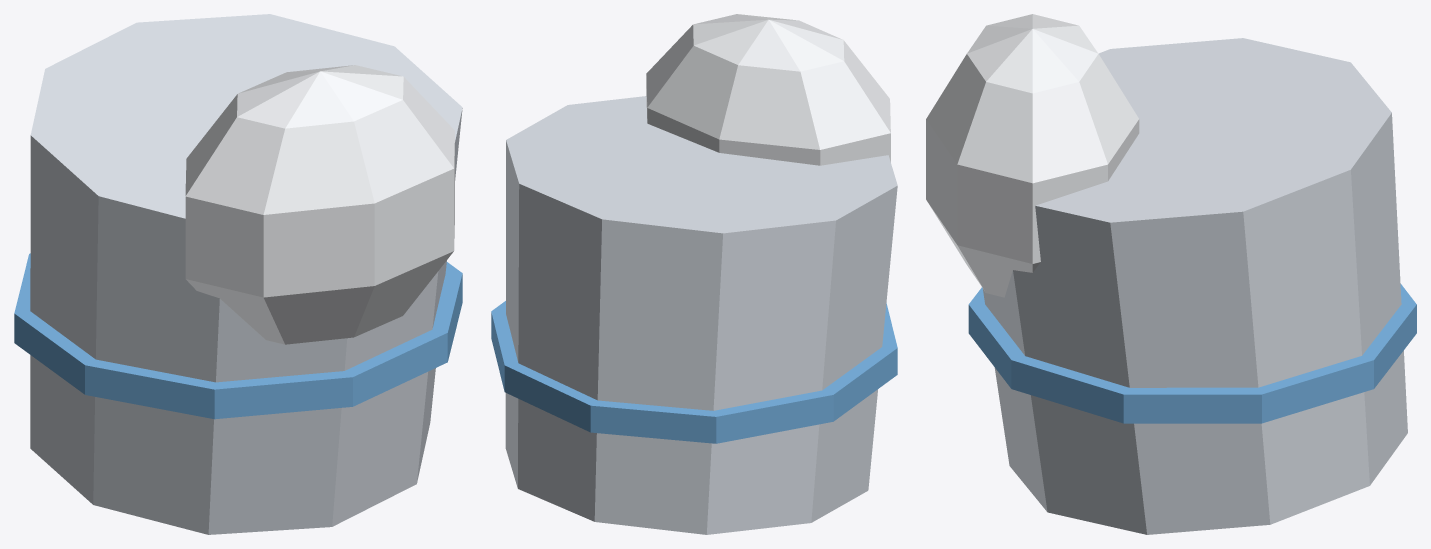
File: cloud_giant_greave_l.glb
The picture shows the model from 3 angles, left to right: view 1: azimuth 30°, elevation 25°; view 2: azimuth 150°, elevation 25°; view 3: azimuth 270°, elevation 25°; orthographic projection. The views are drawn at different scales.
Visible parts, largest first — view 1: cloud_giant_greave_l; view 2: cloud_giant_greave_l; view 3: cloud_giant_greave_l.
Boxes of the visible parts, x1,y1,x2,y2 form: cloud_giant_greave_l: (14, 14, 462, 534); cloud_giant_greave_l: (491, 14, 897, 534); cloud_giant_greave_l: (926, 14, 1416, 534).
Size of the model in its own units: 0.2663 by 0.3013 by 0.3066.
